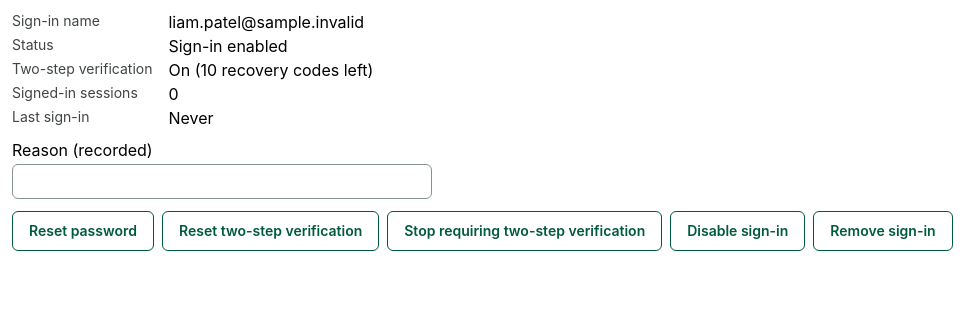
Test case: EmployeeLoginAccount action feedback › shows the refusal, never a confirmation, when the server refuses
This screenshot has width=970, height=316.
In the field: (222, 182) left=12, top=164, right=432, bottom=199, type "testing"
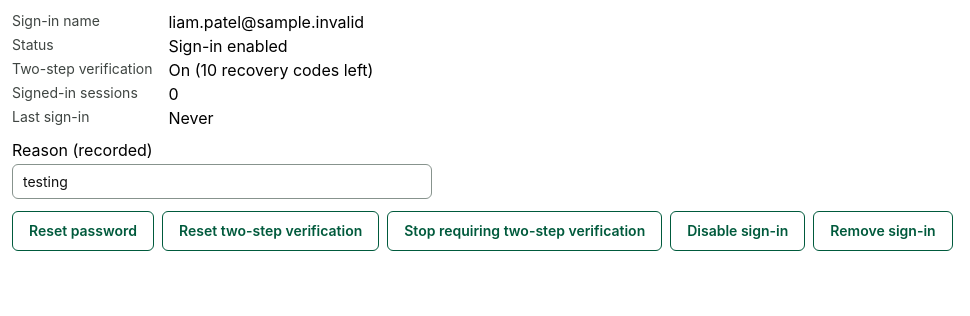
Click the button "Stop requiring two-step verification": (525, 231) left=387, top=211, right=662, bottom=251
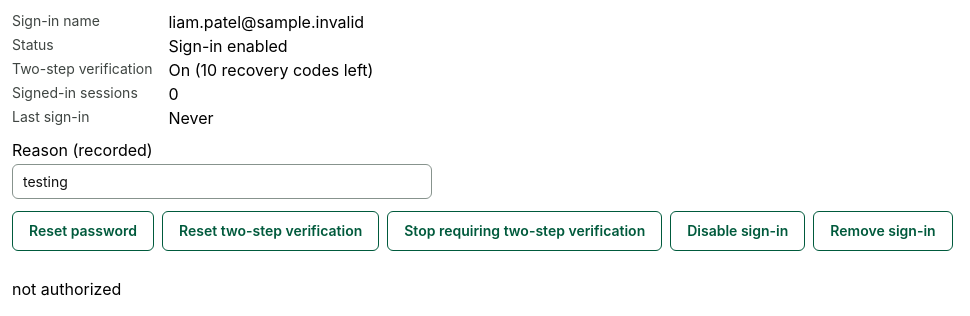
Now the message reads "not authorized", box left=12, top=279, right=121, bottom=299
